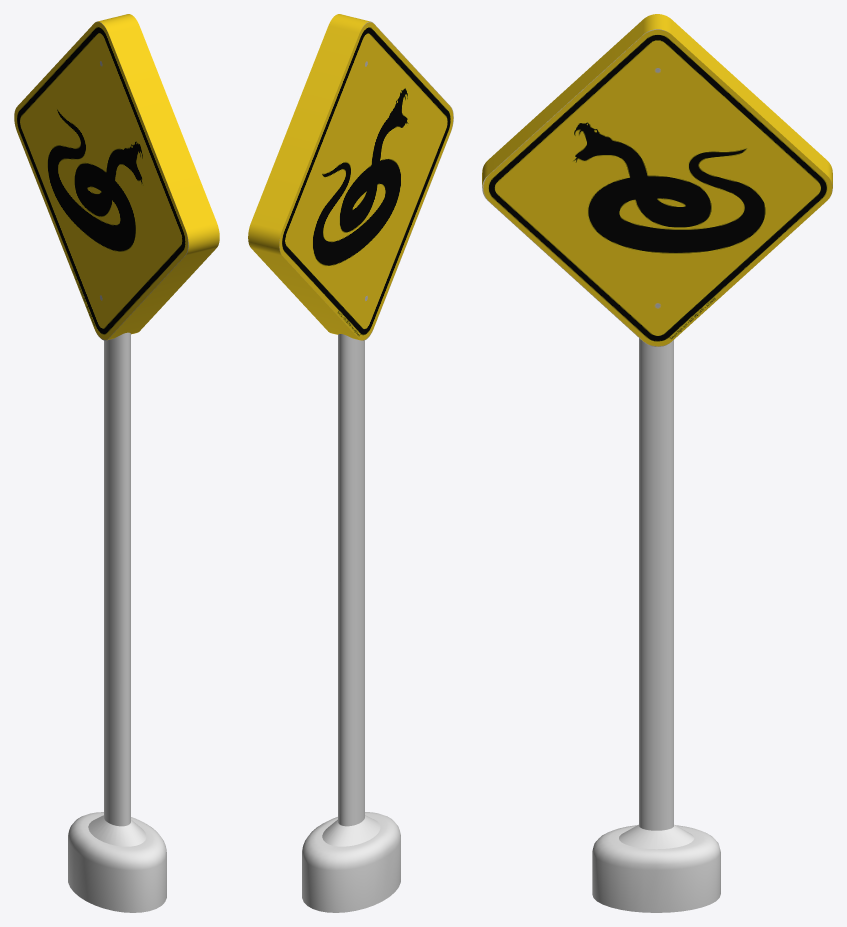
File: Tiang Warning.fbx
3 renders of one model, left to right at view 1: azimuth 30°, elevation 25°; view 2: azimuth 150°, elevation 25°; view 3: azimuth 270°, elevation 25°, orthographic.
Parts seen in each view (by area): view 1: Tiang Warning; view 2: Tiang Warning; view 3: Tiang Warning.
Part boxes in pixels (left/top/right/bottom): Tiang Warning: left=14, top=14, right=219, bottom=912; Tiang Warning: left=248, top=14, right=453, bottom=912; Tiang Warning: left=482, top=14, right=832, bottom=912.
Size of the model in its own units: 44.28 by 484 by 176.
